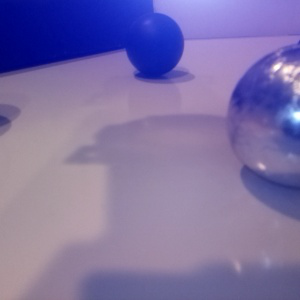alive_ball: (227, 43, 300, 189)
dead_ball: (126, 13, 186, 77)
